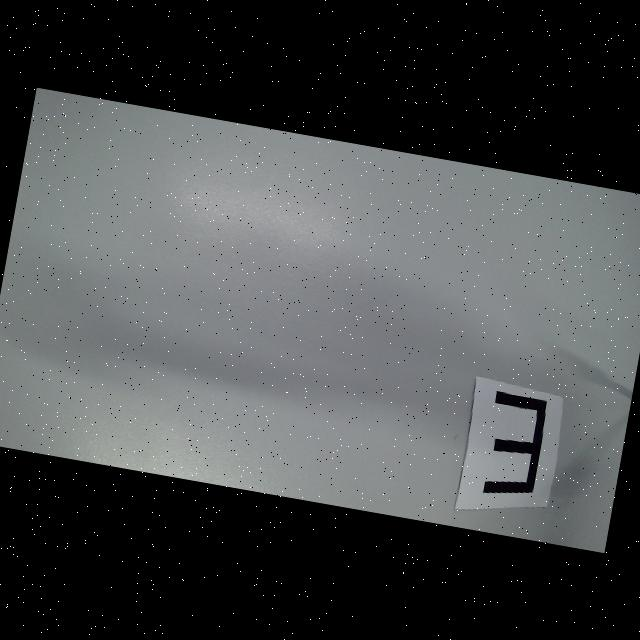FAKE: (478, 389, 548, 502)
